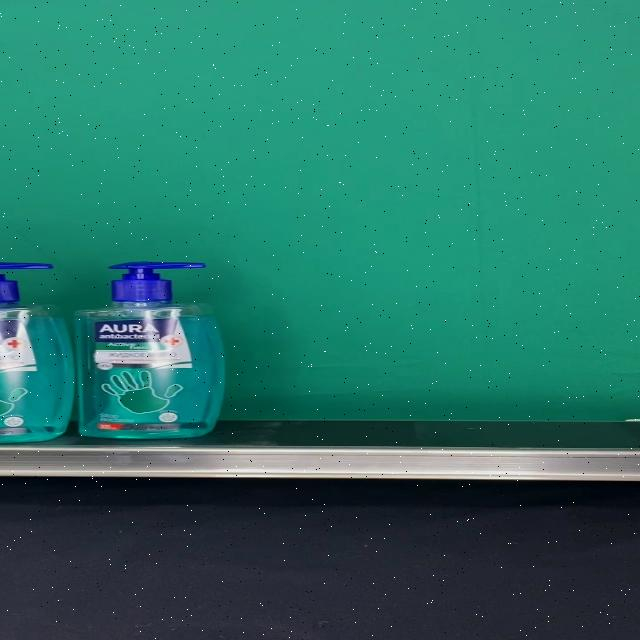Bottle: (72, 262, 226, 438)
Cap: (109, 261, 207, 301)
